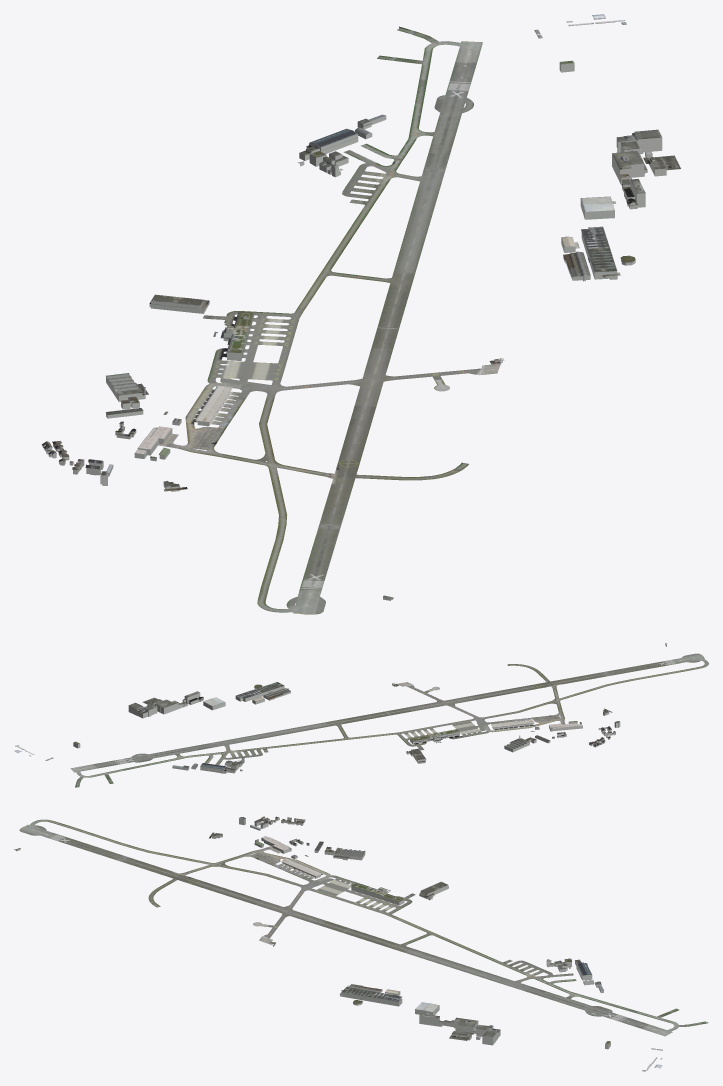
Rendered from LSME_Airport.glb.
The picture shows the model from 3 angles, top to bottom: view 1: azimuth 30°, elevation 25°; view 2: azimuth 150°, elevation 25°; view 3: azimuth 270°, elevation 25°; orthographic projection. The views are drawn at different scales.
Visible parts, largest first — view 1: pavement_LSME_pavement_5332_2433, pavement_LSME_pavement_5330_2431, pavement_LSME_pavement_5331_2432, pavement_LSME_pavement_5330_2430, pavement_LSME_pavement_5331_2431, building_63351cfbdba04305, pavement_LSME_pavement_5330_2432, building_d68d13856380642d, building_352df86a9ca70bab, pavement_LSME_pavement_5332_2432; view 2: pavement_LSME_pavement_5332_2433, pavement_LSME_pavement_5330_2431, pavement_LSME_pavement_5331_2432, pavement_LSME_pavement_5330_2430, pavement_LSME_pavement_5331_2431, building_63351cfbdba04305, building_352df86a9ca70bab, pavement_LSME_pavement_5330_2432, building_d68d13856380642d, building_605efc0c8047cdcd, building_a357b6d1e6d4bd3b, pavement_LSME_pavement_5332_2432 (+1 smaller); view 3: pavement_LSME_pavement_5332_2433, pavement_LSME_pavement_5331_2432, pavement_LSME_pavement_5330_2431, pavement_LSME_pavement_5330_2430, pavement_LSME_pavement_5331_2431, building_d68d13856380642d, building_63351cfbdba04305, building_352df86a9ca70bab, pavement_LSME_pavement_5330_2432.
Part boxes in pixels (left/top/right/bottom): pavement_LSME_pavement_5332_2433: left=342, top=61, right=476, bottom=214; pavement_LSME_pavement_5330_2431: left=158, top=376, right=402, bottom=507; pavement_LSME_pavement_5331_2432: left=203, top=221, right=420, bottom=375; pavement_LSME_pavement_5330_2430: left=258, top=477, right=413, bottom=614; pavement_LSME_pavement_5331_2431: left=272, top=346, right=501, bottom=443; building_63351cfbdba04305: left=563, top=227, right=635, bottom=277; pavement_LSME_pavement_5330_2432: left=201, top=348, right=270, bottom=392; building_d68d13856380642d: left=612, top=129, right=680, bottom=170; building_352df86a9ca70bab: left=612, top=132, right=666, bottom=182; pavement_LSME_pavement_5332_2432: left=403, top=203, right=435, bottom=254; pavement_LSME_pavement_5332_2433: left=93, top=736, right=276, bottom=771; pavement_LSME_pavement_5330_2431: left=467, top=673, right=599, bottom=730; pavement_LSME_pavement_5331_2432: left=284, top=708, right=465, bottom=750; pavement_LSME_pavement_5330_2430: left=536, top=653, right=707, bottom=688; pavement_LSME_pavement_5331_2431: left=393, top=682, right=512, bottom=722; building_63351cfbdba04305: left=239, top=682, right=290, bottom=699; building_352df86a9ca70bab: left=128, top=702, right=178, bottom=718; pavement_LSME_pavement_5330_2432: left=449, top=722, right=501, bottom=739; building_d68d13856380642d: left=129, top=697, right=178, bottom=713; building_605efc0c8047cdcd: left=178, top=693, right=225, bottom=710; building_a357b6d1e6d4bd3b: left=239, top=686, right=290, bottom=701; pavement_LSME_pavement_5332_2432: left=248, top=726, right=303, bottom=739; pavement_LSME_pavement_5332_2433: left=484, top=959, right=645, bottom=1028; pavement_LSME_pavement_5331_2432: left=322, top=891, right=483, bottom=959; pavement_LSME_pavement_5330_2431: left=160, top=846, right=322, bottom=890; pavement_LSME_pavement_5330_2430: left=19, top=822, right=160, bottom=890; pavement_LSME_pavement_5331_2431: left=213, top=891, right=322, bottom=945; building_d68d13856380642d: left=449, top=1017, right=500, bottom=1040; building_63351cfbdba04305: left=339, top=984, right=402, bottom=1003; building_352df86a9ca70bab: left=451, top=1021, right=500, bottom=1045; pavement_LSME_pavement_5330_2432: left=322, top=871, right=368, bottom=890.
Size of the model in its own units: 1853 by 28.99 by 2151.
Materials: 3 (2 with a texture image).
